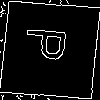P: (25, 25, 76, 64)
